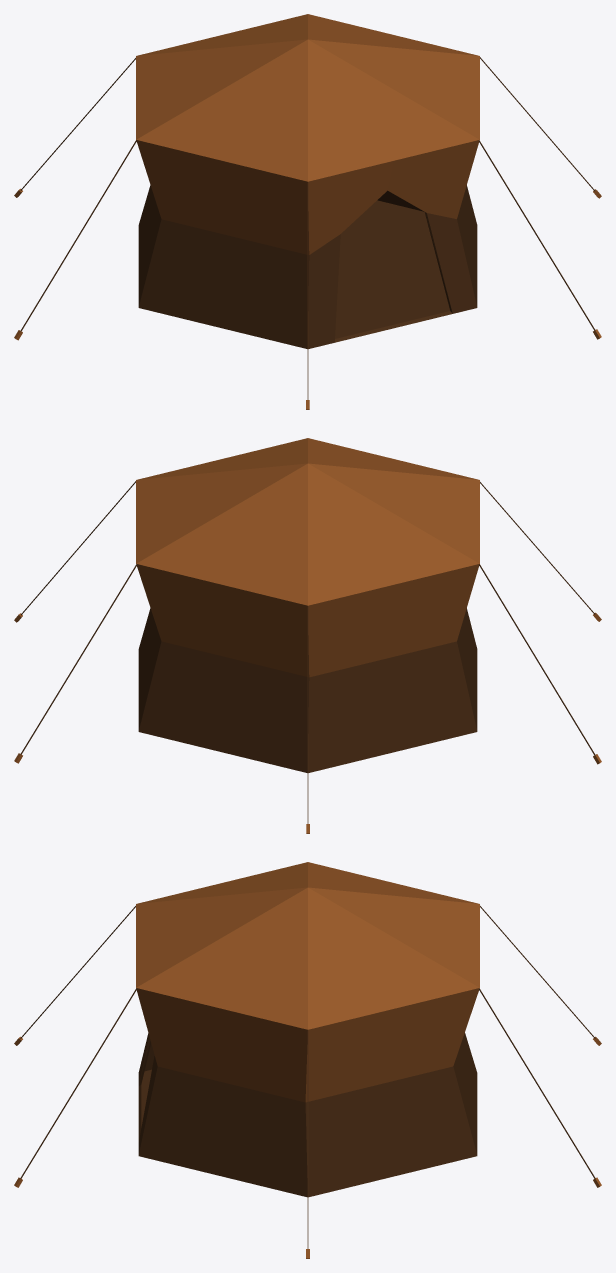
Rendered from Tent_6_Orange.fbx.
3 views of the same model, one above another, from view 1: azimuth 30°, elevation 25°; view 2: azimuth 150°, elevation 25°; view 3: azimuth 270°, elevation 25° (orthographic).
Visible parts, largest first — view 1: Tent_6_Orange_Part_9, Tent_6_Orange_Part_7, Tent_6_Orange_Part_1, Tent_6_Orange_Part_11, Tent_6_Orange_Part_10, Tent_6_Orange_Part_8, Tent_6_Orange_Part_2, Tent_6_Orange_Part_12, Tent_6_Orange_Part_6, Tent_6_Orange_Part_3; view 2: Tent_6_Orange_Part_9, Tent_6_Orange_Part_6, Tent_6_Orange_Part_5, Tent_6_Orange_Part_12, Tent_6_Orange_Part_4, Tent_6_Orange_Part_7; view 3: Tent_6_Orange_Part_9, Tent_6_Orange_Part_3, Tent_6_Orange_Part_4, Tent_6_Orange_Part_12, Tent_6_Orange_Part_5.
Part boxes in pixels (x1=…): Tent_6_Orange_Part_9: x1=136, y1=14, x2=479, y2=181; Tent_6_Orange_Part_7: x1=136, y1=140, x2=309, y2=348; Tent_6_Orange_Part_1: x1=334, y1=200, x2=452, y2=342; Tent_6_Orange_Part_11: x1=387, y1=140, x2=479, y2=218; Tent_6_Orange_Part_10: x1=308, y1=161, x2=393, y2=254; Tent_6_Orange_Part_8: x1=308, y1=234, x2=340, y2=348; Tent_6_Orange_Part_2: x1=424, y1=212, x2=477, y2=313; Tent_6_Orange_Part_12: x1=14, y1=57, x2=601, y2=409; Tent_6_Orange_Part_6: x1=138, y1=185, x2=161, y2=306; Tent_6_Orange_Part_3: x1=457, y1=185, x2=477, y2=306; Tent_6_Orange_Part_9: x1=136, y1=438, x2=479, y2=605; Tent_6_Orange_Part_6: x1=308, y1=564, x2=479, y2=772; Tent_6_Orange_Part_5: x1=136, y1=564, x2=309, y2=772; Tent_6_Orange_Part_12: x1=14, y1=481, x2=601, y2=833; Tent_6_Orange_Part_4: x1=138, y1=608, x2=161, y2=730; Tent_6_Orange_Part_7: x1=457, y1=608, x2=477, y2=730; Tent_6_Orange_Part_9: x1=136, y1=862, x2=479, y2=1029; Tent_6_Orange_Part_3: x1=136, y1=988, x2=307, y2=1197; Tent_6_Orange_Part_4: x1=305, y1=988, x2=479, y2=1197; Tent_6_Orange_Part_12: x1=14, y1=906, x2=601, y2=1258; Tent_6_Orange_Part_5: x1=453, y1=1033, x2=477, y2=1154.
Size of the model in its own units: 1636 by 612 by 1420.
